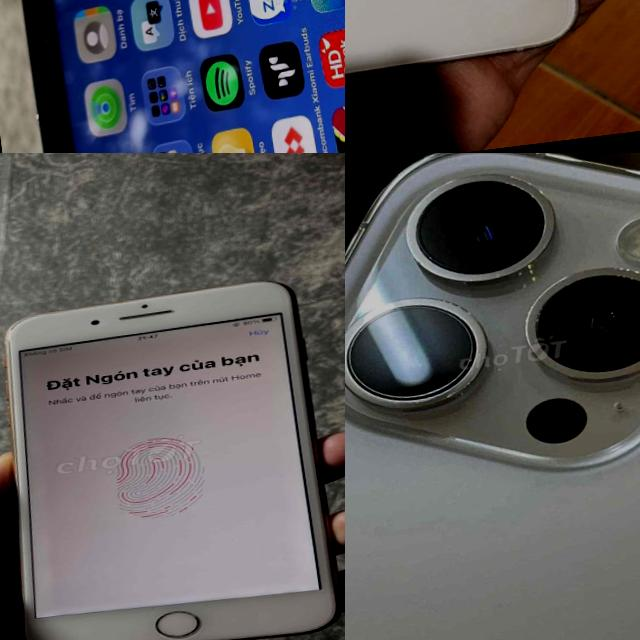gen_12_13: (0, 0, 345, 153), (345, 0, 619, 123)
gen_14: (345, 153, 640, 640)
gen_7_8: (0, 274, 345, 640)
